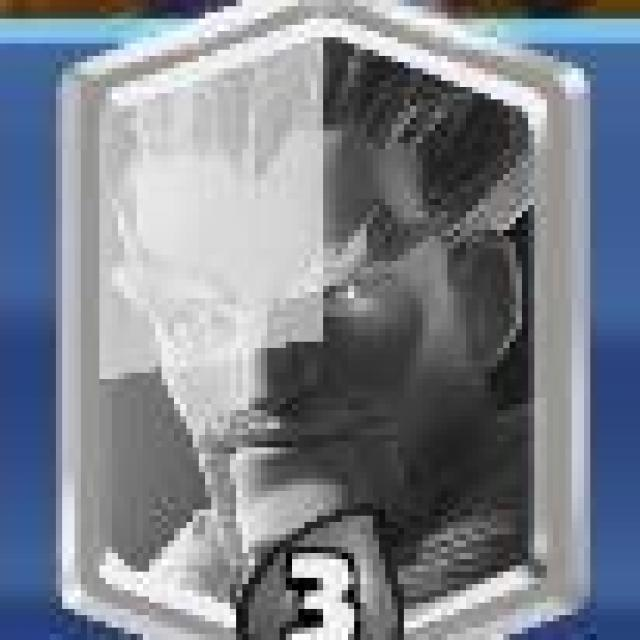Ice_Wizard: (72, 1, 580, 640)
